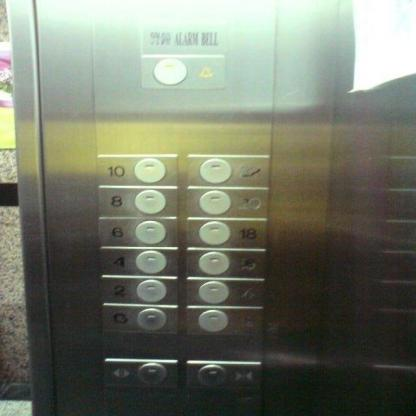10: (94, 152, 180, 186)
18: (183, 214, 268, 250)
2: (96, 272, 180, 306)
20: (183, 183, 269, 220)
22: (180, 151, 270, 185)
4: (96, 243, 180, 278)
6: (94, 214, 180, 248)
8: (94, 182, 178, 218)
G: (98, 301, 179, 335)
alarm: (137, 52, 227, 91)
blur: (184, 245, 268, 280), (183, 274, 267, 308), (183, 303, 266, 337)
close: (184, 359, 262, 392)
open: (99, 356, 179, 392)
